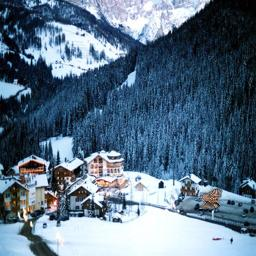Sparrow: (199, 188, 222, 209)
